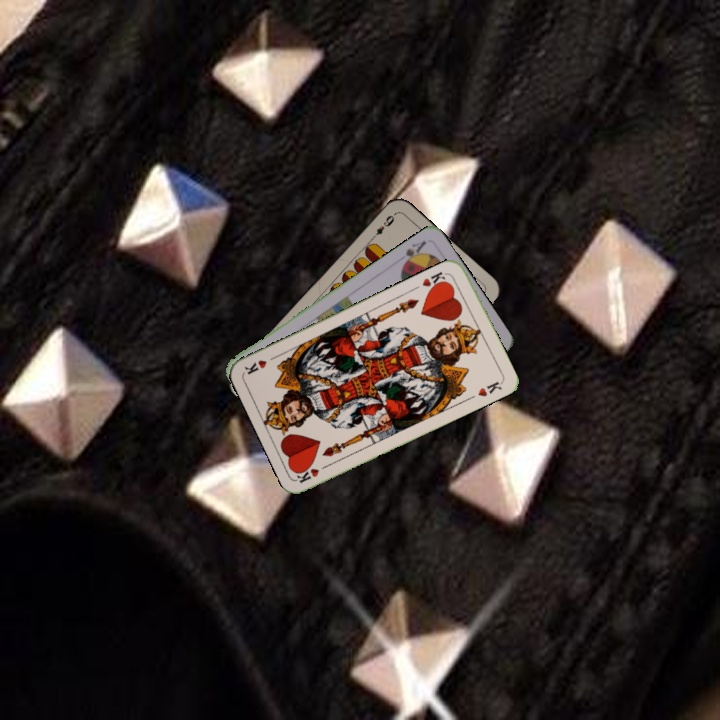E9: (367, 209, 398, 243)
HK: (293, 459, 333, 486), (418, 268, 451, 293)
SA: (398, 236, 429, 270)
